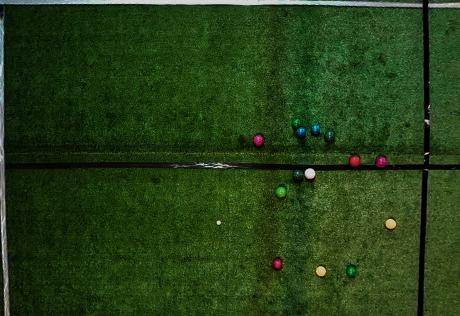blue: (296, 127, 306, 138), (311, 124, 320, 135)
green: (292, 169, 304, 183), (275, 186, 287, 199), (325, 130, 335, 142), (346, 265, 356, 277), (292, 118, 301, 129)
red: (374, 156, 388, 168), (253, 134, 265, 147), (348, 155, 361, 167), (304, 168, 316, 180), (272, 258, 284, 270)
vline: (416, 1, 460, 315), (0, 1, 15, 315)
white: (216, 220, 222, 226)
yellow: (385, 218, 396, 229), (316, 266, 326, 277)
